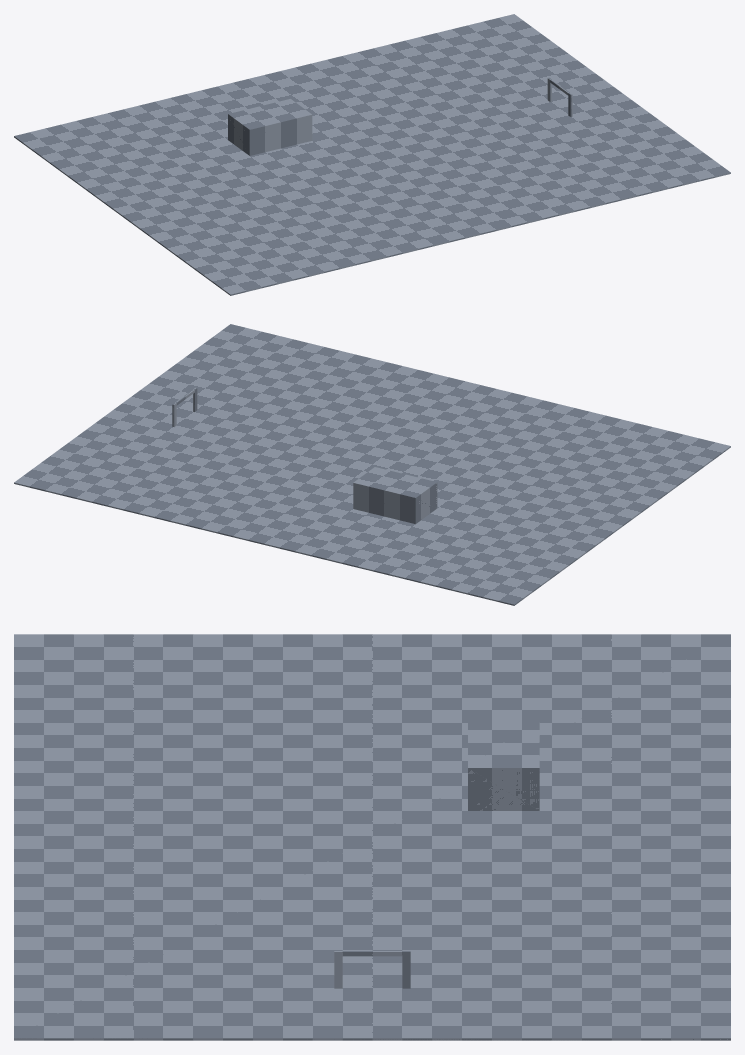
The model's file is walk-village_west.gltf.
3 views of the same model, one above another, from view 1: azimuth 30°, elevation 25°; view 2: azimuth 150°, elevation 25°; view 3: azimuth 270°, elevation 25° (orthographic). The views are drawn at different scales.
Visible parts, largest first — view 1: Ground and gate; view 2: Ground and gate; view 3: Ground and gate.
Part boxes in pixels (left/top/right/bottom): Ground and gate: left=14, top=14, right=730, bottom=295; Ground and gate: left=14, top=324, right=730, bottom=605; Ground and gate: left=14, top=634, right=730, bottom=1040.
Size of what is drawn, in the model's own units: 80 by 4.2 by 60.
1 material, 1 textured.
